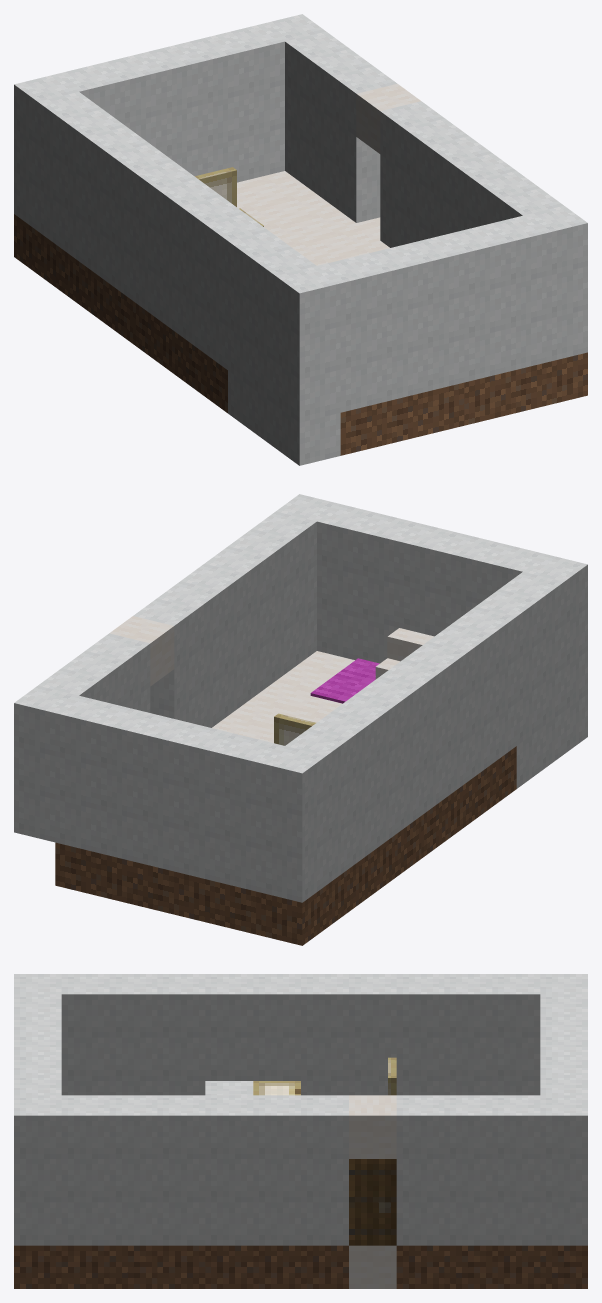
File: Maquete_Júlia Bissaro de Freitas.glb
3 renders of one model, top to bottom at view 1: azimuth 30°, elevation 25°; view 2: azimuth 150°, elevation 25°; view 3: azimuth 270°, elevation 25°, orthographic.
Parts seen in each view (by area): view 1: node_3, node_6, node_4, node_1, node_5; view 2: node_6, node_3, node_1, node_4, node_5; view 3: node_3, node_6, node_1, node_4, node_2, node_5.
Part boxes in pixels (x1,y1,x2,y2): node_3: (138, 14, 492, 265); node_6: (14, 54, 244, 395); node_4: (204, 213, 422, 465); node_1: (399, 153, 587, 435); node_5: (195, 167, 236, 206); node_6: (179, 624, 492, 945); node_3: (14, 564, 318, 915); node_1: (204, 494, 463, 720); node_4: (440, 534, 587, 806); node_5: (274, 713, 315, 745); node_3: (205, 1034, 587, 1288); node_6: (205, 974, 587, 1095); node_1: (14, 1034, 205, 1288); node_4: (14, 974, 205, 1095); node_2: (349, 1159, 396, 1245); node_5: (253, 1057, 396, 1095).
Size of the model in its own units: 7 by 4 by 12.
Materials: 2 (2 with a texture image).
